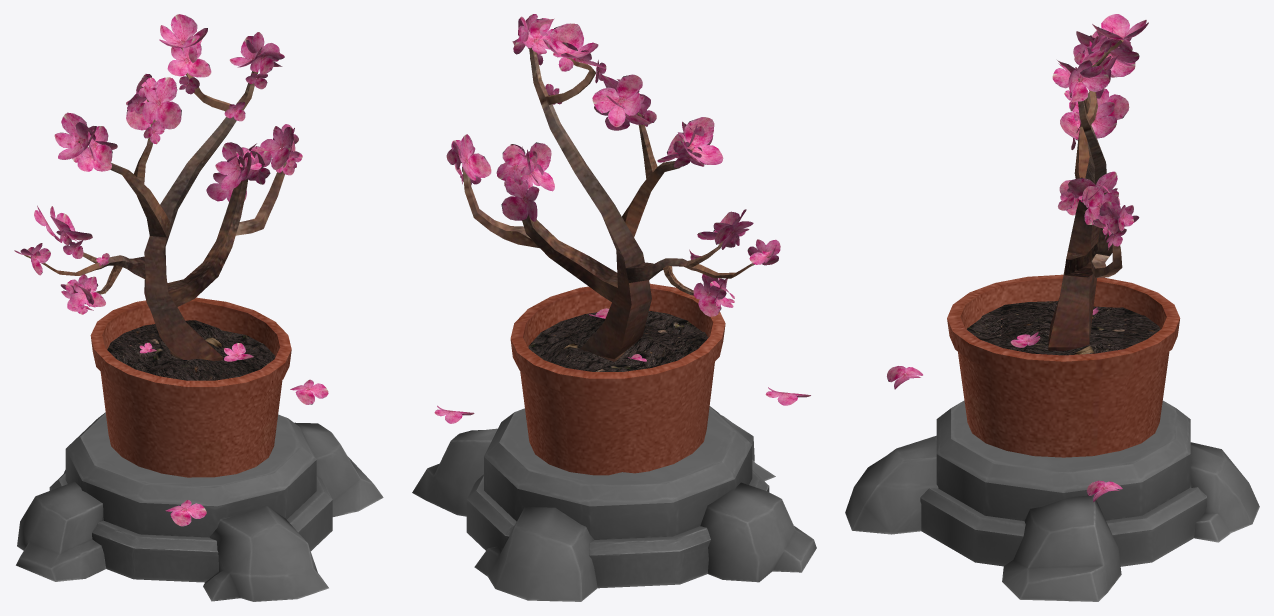
File: plantaSakura.glb
The picture shows the model from 3 angles, left to right: view 1: azimuth 30°, elevation 25°; view 2: azimuth 150°, elevation 25°; view 3: azimuth 270°, elevation 25°; orthographic projection. The views are drawn at different scales.
Visible parts, largest first — view 1: Rock_Pedestal, Object_7, Object_5, Object_2, Object_4, Object_6; view 2: Rock_Pedestal, Object_7, Object_5, Object_2, Object_4, Object_6; view 3: Rock_Pedestal, Object_7, Object_5, Object_2, Object_4, Object_6.
Boxes of the visible parts, x1=… form: Rock_Pedestal: x1=16, y1=412, x2=383, y2=601; Object_7: x1=90, y1=297, x2=291, y2=477; Object_5: x1=30, y1=14, x2=328, y2=526; Object_2: x1=24, y1=44, x2=290, y2=360; Object_4: x1=107, y1=320, x2=275, y2=380; Object_6: x1=14, y1=77, x2=249, y2=311; Rock_Pedestal: x1=412, y1=406, x2=816, y2=601; Object_7: x1=510, y1=283, x2=725, y2=475; Object_5: x1=434, y1=14, x2=810, y2=423; Object_2: x1=462, y1=47, x2=770, y2=359; Object_4: x1=528, y1=310, x2=708, y2=371; Object_6: x1=518, y1=79, x2=776, y2=307; Rock_Pedestal: x1=845, y1=400, x2=1259, y2=601; Object_7: x1=947, y1=274, x2=1180, y2=457; Object_5: x1=887, y1=14, x2=1148, y2=502; Object_2: x1=1048, y1=39, x2=1123, y2=347; Object_4: x1=967, y1=301, x2=1160, y2=355; Object_6: x1=1059, y1=28, x2=1135, y2=197.
Size of the model in its own units: 1.72 by 2.23 by 1.67.
Materials: 5 (5 with a texture image).
